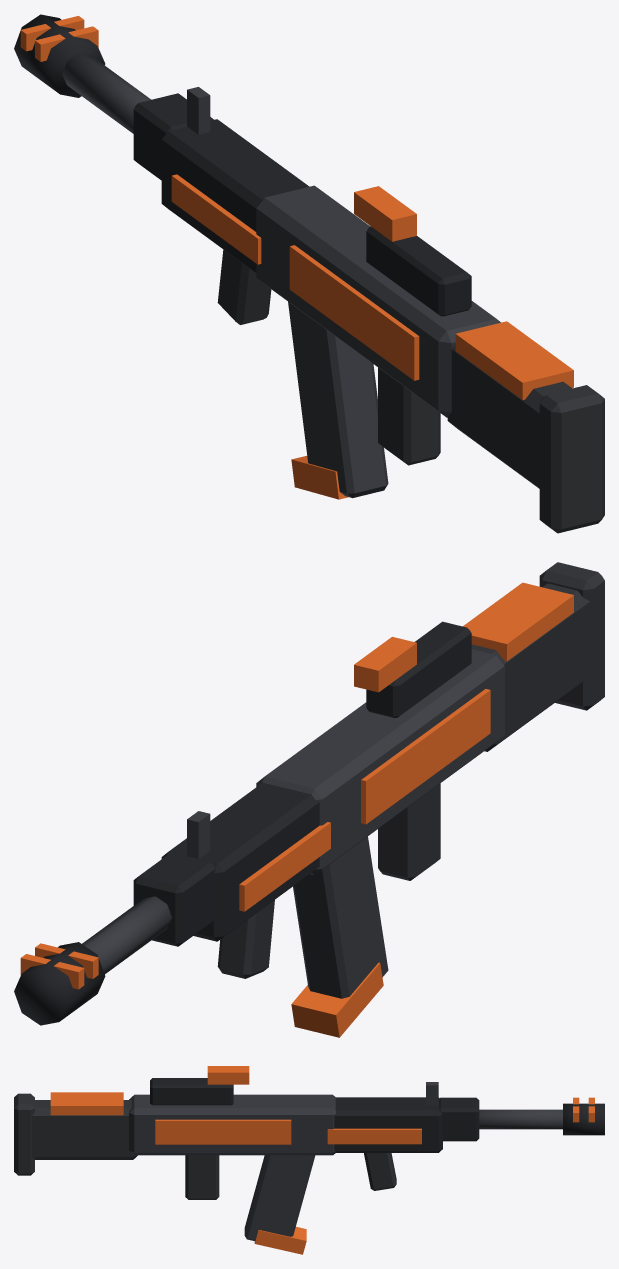
File: weapon_assault.glb
3 views of the same model, one above another, from view 1: azimuth 30°, elevation 25°; view 2: azimuth 150°, elevation 25°; view 3: azimuth 270°, elevation 25° (orthographic). The views are drawn at different scales.
Parts seen in each view (by area): view 1: Gun; view 2: Gun; view 3: Gun.
Part boxes in pixels (x1,y1,x2,y2): Gun: (14, 14, 604, 533); Gun: (14, 562, 604, 1037); Gun: (14, 1066, 604, 1254).
Size of the model in its own units: 0.092 by 0.3785 by 1.13.
